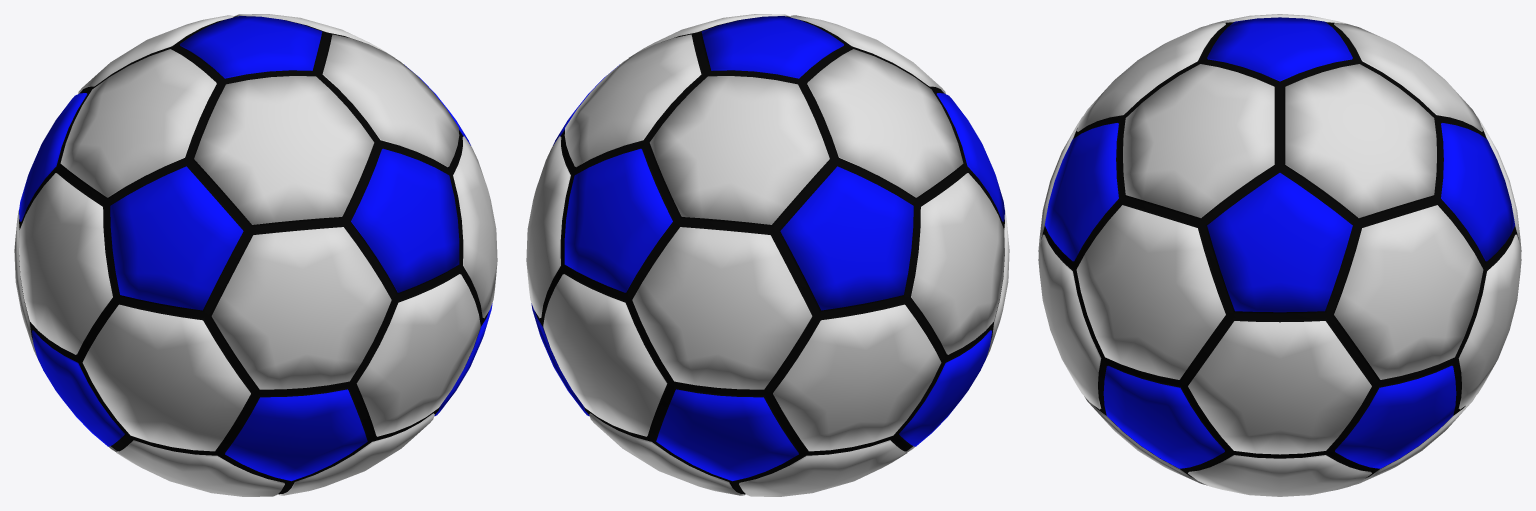
File: balonazul.glb
3 views of the same model, side by side, from view 1: azimuth 30°, elevation 25°; view 2: azimuth 150°, elevation 25°; view 3: azimuth 270°, elevation 25° (orthographic).
Parts seen in each view (by area): view 1: BalonAzul; view 2: BalonAzul; view 3: BalonAzul.
Boxes of the visible parts, box(x1,y1,x2,y2) form: BalonAzul: box(14, 14, 497, 496); BalonAzul: box(526, 14, 1009, 496); BalonAzul: box(1038, 14, 1521, 496).
Size of the model in its own units: 1.7 by 1.7 by 1.7.
